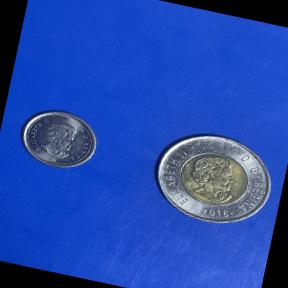Canada-10cent-B: (9, 94, 108, 180)
Canada-2Dollar-B: (136, 116, 288, 245)
